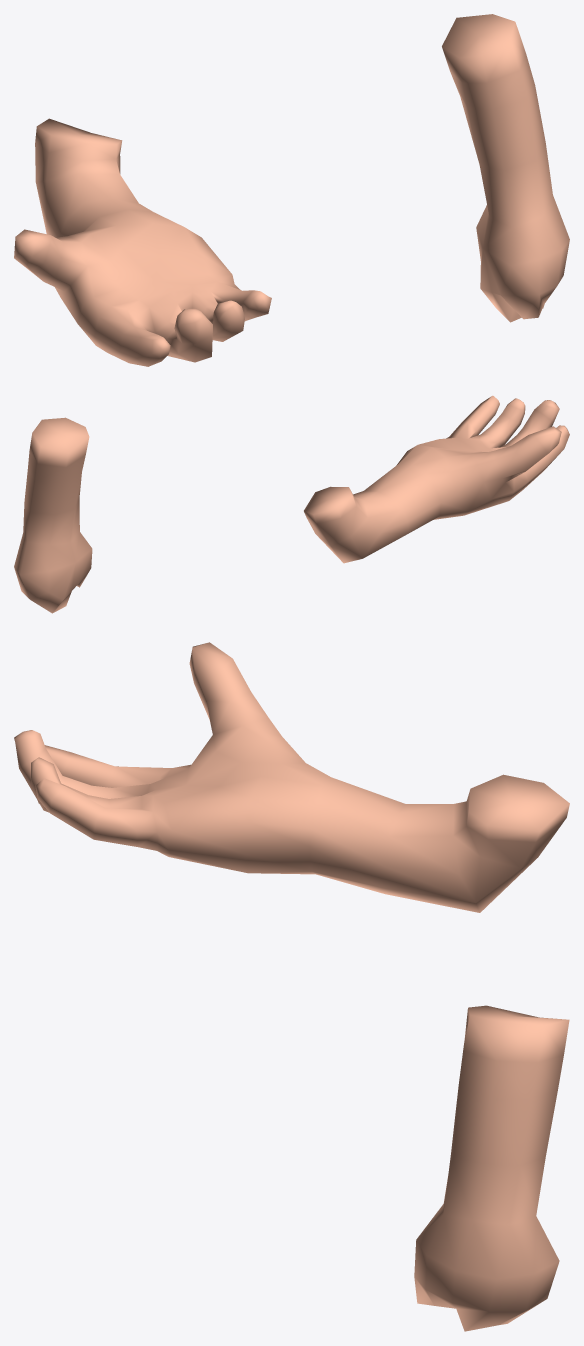
File: AF_M_Arm_08.FBX
3 renders of one model, top to bottom at view 1: azimuth 30°, elevation 25°; view 2: azimuth 150°, elevation 25°; view 3: azimuth 270°, elevation 25°, orthographic. The views are drawn at different scales.
Visible parts, largest first — view 1: AF_M_Arm_08; view 2: AF_M_Arm_08; view 3: AF_M_Arm_08.
Boxes of the visible parts, box(x1,y1,x2,y2) form: AF_M_Arm_08: box(14, 14, 569, 366); AF_M_Arm_08: box(14, 395, 569, 613); AF_M_Arm_08: box(14, 642, 569, 1331).
Bounding box in the file's own units: 640 × 293 × 417.
Materials: 1 (1 with a texture image).
